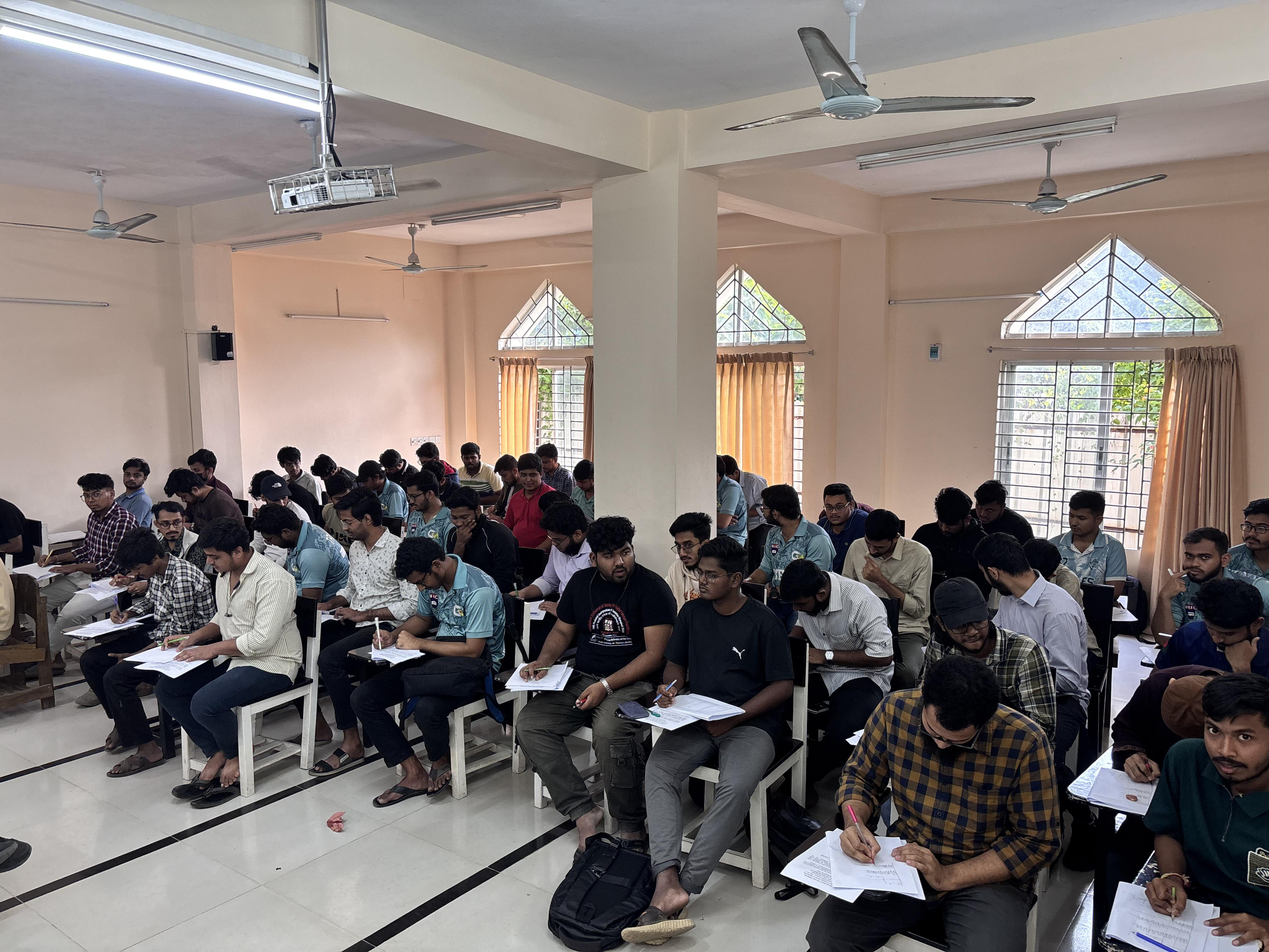copying: (956, 532, 1062, 658), (274, 446, 319, 491)
hidden_communication: (653, 547, 766, 822)
no_cheating: (810, 668, 1024, 952), (363, 531, 501, 767), (1139, 702, 1269, 952), (190, 528, 308, 758), (63, 545, 183, 695), (773, 553, 890, 684), (1091, 666, 1203, 801), (835, 513, 935, 642), (310, 507, 395, 631), (236, 499, 348, 590), (1056, 480, 1139, 600), (515, 518, 606, 604), (1176, 602, 1269, 660), (654, 509, 719, 586), (912, 478, 976, 556), (389, 477, 456, 544), (505, 456, 552, 547), (162, 476, 240, 526), (973, 464, 1018, 538), (808, 480, 862, 532), (439, 441, 490, 496), (569, 457, 604, 514), (184, 454, 230, 491), (415, 438, 453, 476), (536, 443, 573, 478), (485, 457, 522, 492), (375, 452, 415, 483), (321, 471, 358, 500)
side_talking: (525, 530, 672, 765), (729, 481, 824, 579)
suspicious_moving: (44, 477, 118, 591), (429, 484, 512, 574), (1152, 532, 1238, 607), (105, 444, 157, 512), (1227, 492, 1269, 570), (236, 463, 299, 504), (149, 507, 200, 549)
